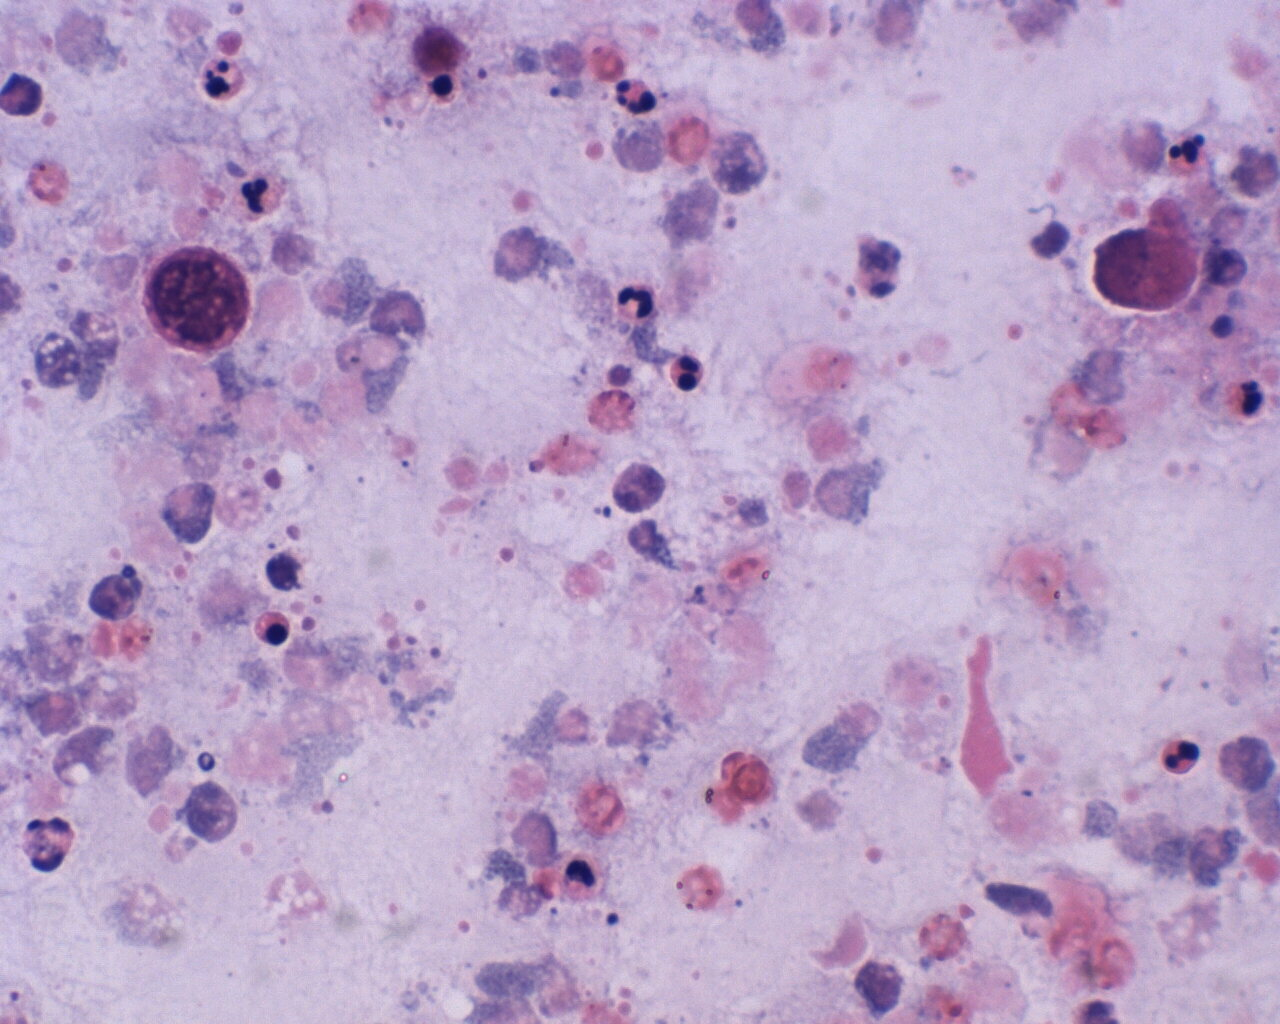ab: (143, 245, 255, 356), (1088, 215, 1197, 322)
neutro: (235, 167, 290, 222), (1165, 126, 1211, 178), (615, 70, 664, 118), (613, 278, 659, 327), (1157, 738, 1205, 779)
